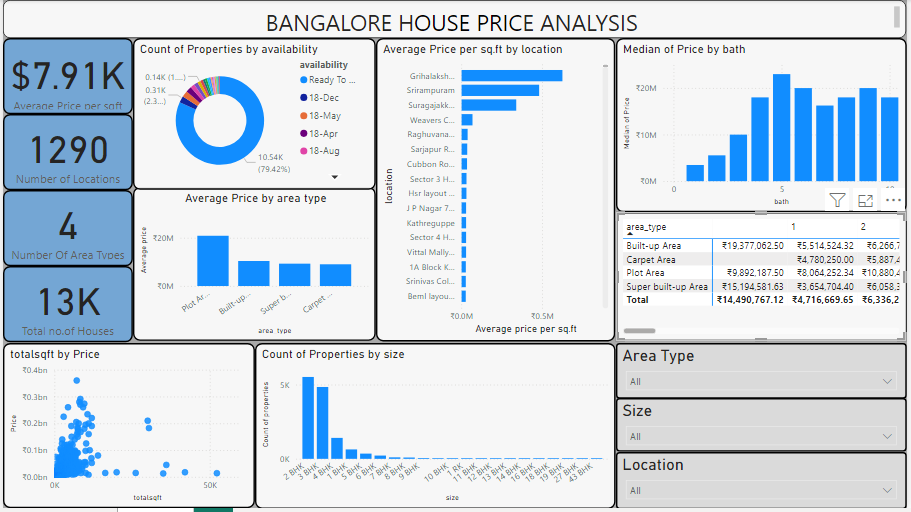

This screenshot's page, from the dashboard's own definition file:
{"tool":"powerbi","page":{"name":"Page 1","canvas":[1280,720],"ordinal":0},"visuals":[{"type":"textbox","box":[0,0,1279.8,53.9],"z":1},{"type":"card","fields":{"Values":["bengaluru_house_prices (2).Average Price"]},"box":[0,53.9,184.3,107.7],"z":2},{"type":"card","fields":{"Values":["bengaluru_house_prices (2).NumberOfAreaTypes"]},"box":[0,269.3,184.3,107.7],"z":3},{"type":"card","fields":{"Values":["bengaluru_house_prices (2).NumberOfLocations"]},"box":[0,161.6,184.3,107.7],"z":4},{"type":"card","title":"Total no.of Houses","fields":{"Values":["bengaluru_house_prices (2).Total Houses"]},"box":[0,377,184.3,107.7],"z":5},{"type":"columnChart","title":"Average Price by area type","fields":{"Category":["bengaluru_house_prices (2).area_type"],"Y":["Avg(bengaluru_house_prices (2).Price)"]},"box":[184.8,265.4,344.4,218.4],"z":6},{"type":"clusteredBarChart","title":"Average Price per sq.ft by location","fields":{"Category":["bengaluru_house_prices (2).location"],"Y":["Avg(bengaluru_house_prices (2).Price per sqft)"]},"box":[529.1,53.8,339.3,430],"z":7},{"type":"scatterChart","title":"totalsqft by Price","fields":{"X":["bengaluru_house_prices (2).totalsqft"],"Y":["bengaluru_house_prices (2).Price"]},"box":[0,486.1,357.2,233.9],"z":8},{"type":"clusteredColumnChart","fields":{"Category":["bengaluru_house_prices (2).bath"],"Y":["Median(bengaluru_house_prices (2).Price)"]},"box":[868.5,53.8,411.5,246.9],"z":9},{"type":"donutChart","title":"Count of Properties by availability","fields":{"Category":["bengaluru_house_prices (2).availability"],"Y":["CountNonNull(bengaluru_house_prices (2).Price)"]},"box":[184.8,53.8,344.4,215],"z":10},{"type":"clusteredColumnChart","title":"Count of Properties by size","fields":{"Category":["bengaluru_house_prices (2).size"],"Y":["CountNonNull(bengaluru_house_prices (2).Price)"]},"box":[357.8,485.5,510.7,235.2],"z":11},{"type":"pivotTable","fields":{"Rows":["bengaluru_house_prices (2).area_type"],"Columns":["bengaluru_house_prices (2).bath"],"Values":["Avg(bengaluru_house_prices (2).Price)"]},"box":[868.5,300.7,411.5,183.1],"z":12},{"type":"slicer","title":"Area Type","fields":{"Values":["bengaluru_house_prices (2).area_type"]},"box":[868.5,485.5,411.5,79],"z":13},{"type":"slicer","title":"Location","fields":{"Values":["bengaluru_house_prices (2).location"]},"box":[868.5,640,411.5,80.6],"z":14},{"type":"slicer","title":"Size","fields":{"Values":["bengaluru_house_prices (2).size"]},"box":[868.5,564.4,411.5,75.6],"z":15}]}

Visuals, with their boxes in screenshot pixels (x1, y1, x2, y2), scaled from the page's 1280x720 canvas onto the 911x512 screenshot:
textbox: (x1=0, y1=0, x2=910, y2=38)
card - bengaluru_house_prices (2).Average Price: (x1=0, y1=38, x2=131, y2=115)
card - bengaluru_house_prices (2).NumberOfAreaTypes: (x1=0, y1=192, x2=131, y2=268)
card - bengaluru_house_prices (2).NumberOfLocations: (x1=0, y1=115, x2=131, y2=192)
"Total no.of Houses" card: (x1=0, y1=268, x2=131, y2=345)
"Average Price by area type" columnChart: (x1=132, y1=189, x2=377, y2=344)
"Average Price per sq.ft by location" clusteredBarChart: (x1=377, y1=38, x2=618, y2=344)
"totalsqft by Price" scatterChart: (x1=0, y1=346, x2=254, y2=511)
clusteredColumnChart - bengaluru_house_prices (2).bath x Median(bengaluru_house_prices (2).Price): (x1=618, y1=38, x2=910, y2=214)
"Count of Properties by availability" donutChart: (x1=132, y1=38, x2=377, y2=191)
"Count of Properties by size" clusteredColumnChart: (x1=255, y1=345, x2=618, y2=511)
pivotTable - bengaluru_house_prices (2).area_type x bengaluru_house_prices (2).bath: (x1=618, y1=214, x2=910, y2=344)
"Area Type" slicer: (x1=618, y1=345, x2=910, y2=401)
"Location" slicer: (x1=618, y1=455, x2=910, y2=511)
"Size" slicer: (x1=618, y1=401, x2=910, y2=455)
